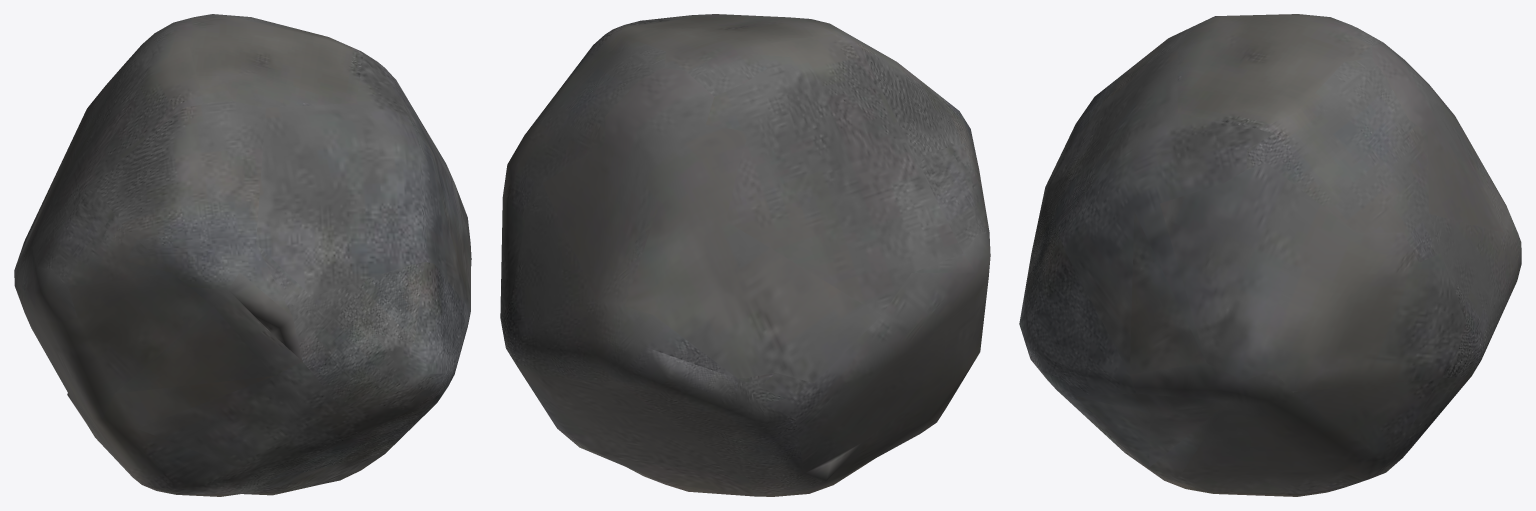
The model's file is rock.glb.
3 views of the same model, side by side, from view 1: azimuth 30°, elevation 25°; view 2: azimuth 150°, elevation 25°; view 3: azimuth 270°, elevation 25° (orthographic). The views are drawn at different scales.
Visible parts, largest first — view 1: tripo_node_0ca17972-3732-4dcb-a223-56fa6ec372ab; view 2: tripo_node_0ca17972-3732-4dcb-a223-56fa6ec372ab; view 3: tripo_node_0ca17972-3732-4dcb-a223-56fa6ec372ab.
Part boxes in pixels (box(x1,y1,x2,y2)): tripo_node_0ca17972-3732-4dcb-a223-56fa6ec372ab: box(14, 14, 471, 496); tripo_node_0ca17972-3732-4dcb-a223-56fa6ec372ab: box(500, 14, 990, 496); tripo_node_0ca17972-3732-4dcb-a223-56fa6ec372ab: box(1019, 14, 1521, 496).
Bounding box in the file's own units: 0.9995 × 0.9458 × 0.9917.
1 material, 1 textured.
